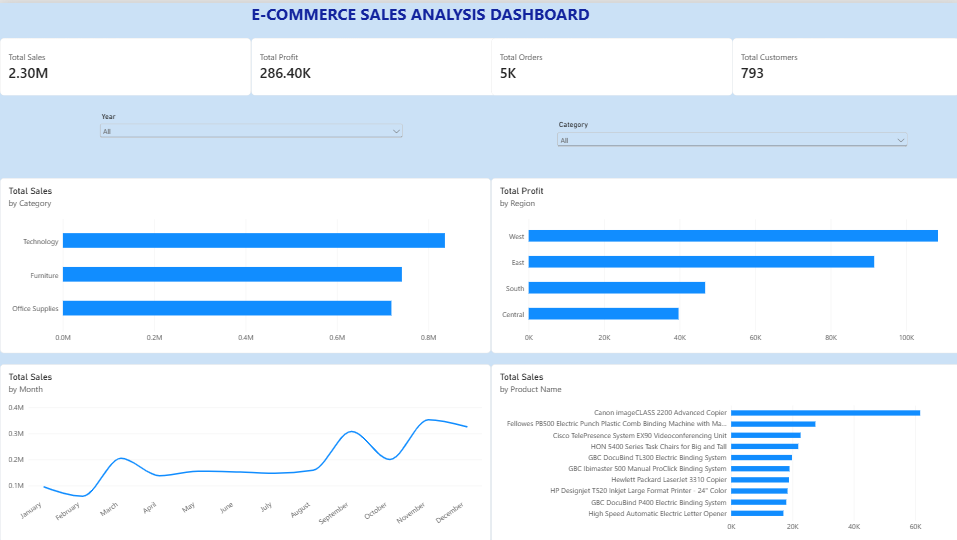

Layout of this report page (visuals, bound fields, positions):
{"tool":"powerbi","page":{"name":"Page 1","canvas":[1920,1080],"ordinal":0},"visuals":[{"type":"cardVisual","fields":{"Data":["cleaned_superstore.Total Sales"]},"box":[0,70,502.2,115.3],"z":0},{"type":"cardVisual","fields":{"Data":["cleaned_superstore.Total Profit"]},"box":[502.2,70,494,115.3],"z":1000},{"type":"cardVisual","fields":{"Data":["cleaned_superstore.Total Orders"]},"box":[981.8,70,483.7,115.3],"z":2000},{"type":"cardVisual","fields":{"Data":["cleaned_superstore.Total Customers"]},"box":[1465.5,70,454.9,115.3],"z":3000},{"type":"clusteredBarChart","fields":{"Category":["cleaned_superstore.Category"],"Y":["cleaned_superstore.Total Sales"]},"box":[0,350.6,981.4,350.6],"z":4000},{"type":"lineChart","fields":{"Category":["cleaned_superstore.Order Date.Variation.Date Hierarchy.Month"],"Y":["cleaned_superstore.Total Sales"]},"box":[0,722.7,981.4,357.1],"z":5000},{"type":"clusteredBarChart","fields":{"Category":["cleaned_superstore.Region"],"Y":["cleaned_superstore.Total Profit"]},"box":[981.4,350.6,938.6,350.6],"z":6000},{"type":"clusteredBarChart","fields":{"Category":["cleaned_superstore.Product Name"],"Y":["cleaned_superstore.Total Sales"]},"box":[981.4,722.7,938.6,357.1],"z":7000},{"type":"slicer","fields":{"Values":["cleaned_superstore.Order Date.Variation.Date Hierarchy.Year"]},"box":[194.6,218.1,615.8,81.2],"z":8000},{"type":"slicer","fields":{"Values":["cleaned_superstore.Category"]},"box":[1109.7,235.2,709.8,64.1],"z":9000},{"type":"textbox","box":[0,0,1681.7,140],"z":10000}]}

Visuals, with their boxes in screenshot pixels (x1, y1, x2, y2), scaled from the page's 1920x1080 canvas onto the 957x540 screenshot:
cardVisual - cleaned_superstore.Total Sales: region(0, 35, 250, 93)
cardVisual - cleaned_superstore.Total Profit: region(250, 35, 497, 93)
cardVisual - cleaned_superstore.Total Orders: region(489, 35, 730, 93)
cardVisual - cleaned_superstore.Total Customers: region(730, 35, 956, 93)
clusteredBarChart - cleaned_superstore.Category x cleaned_superstore.Total Sales: region(0, 175, 489, 351)
lineChart - cleaned_superstore.Order Date.Variation.Date Hierarchy.Month x cleaned_superstore.Total Sales: region(0, 361, 489, 539)
clusteredBarChart - cleaned_superstore.Region x cleaned_superstore.Total Profit: region(489, 175, 956, 351)
clusteredBarChart - cleaned_superstore.Product Name x cleaned_superstore.Total Sales: region(489, 361, 956, 539)
slicer - cleaned_superstore.Order Date.Variation.Date Hierarchy.Year: region(97, 109, 404, 150)
slicer - cleaned_superstore.Category: region(553, 118, 907, 150)
textbox: region(0, 0, 838, 70)
